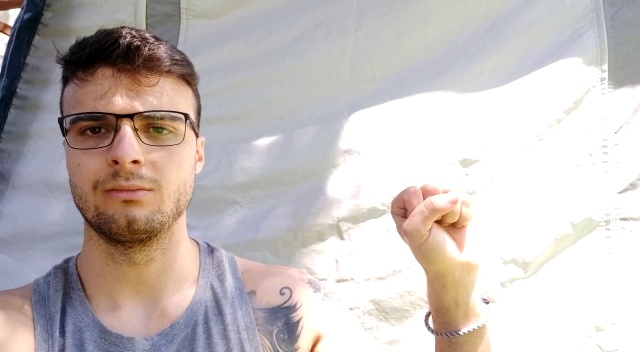Fist: (386, 183, 497, 291)
